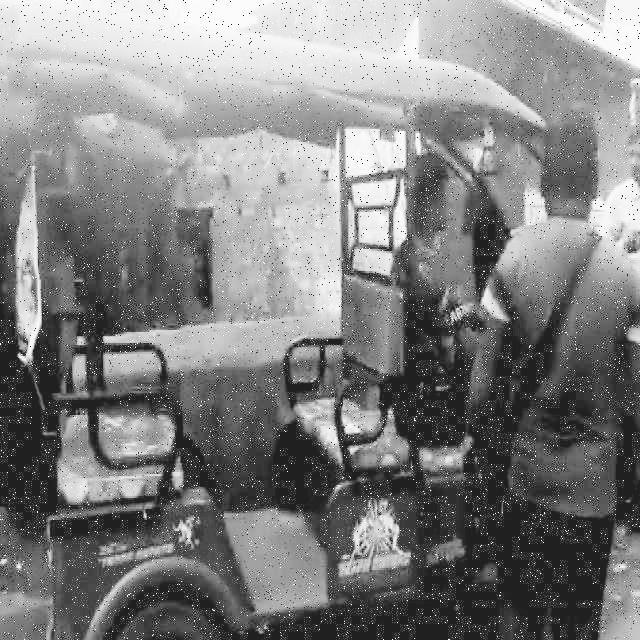Toto: (12, 10, 593, 618)
